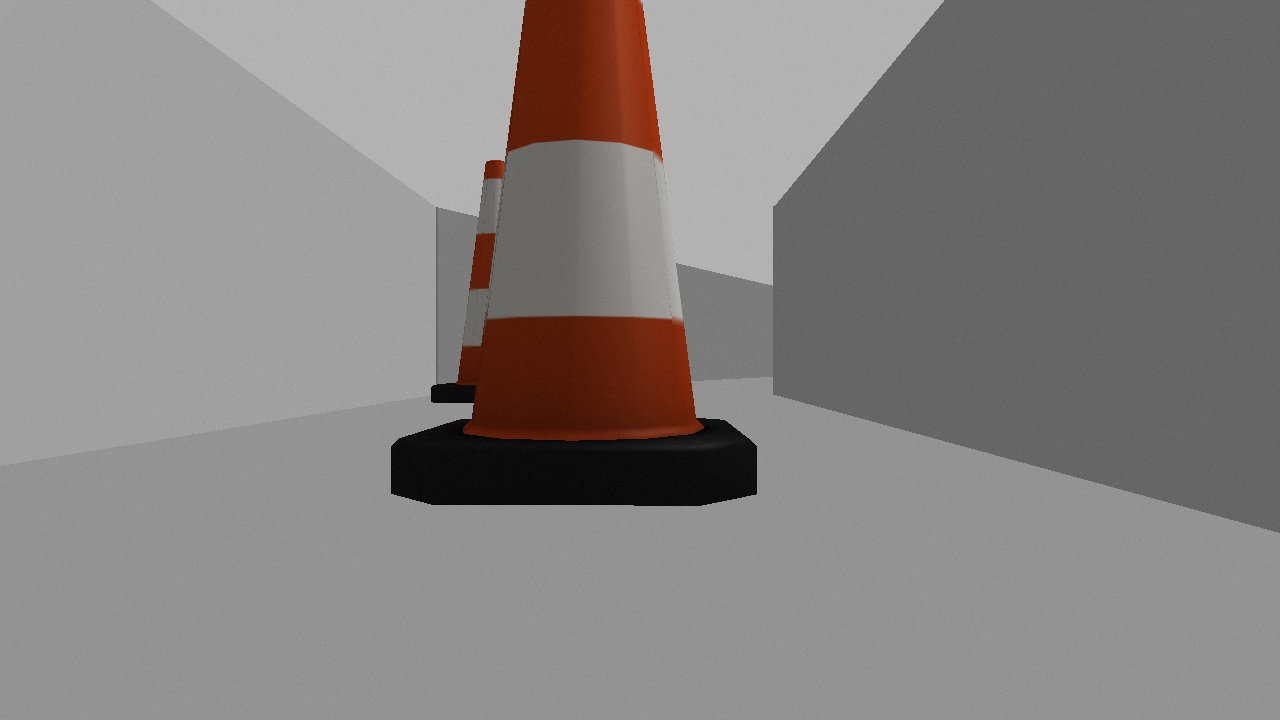barricade: (361, 1, 793, 526), (425, 152, 559, 414)
